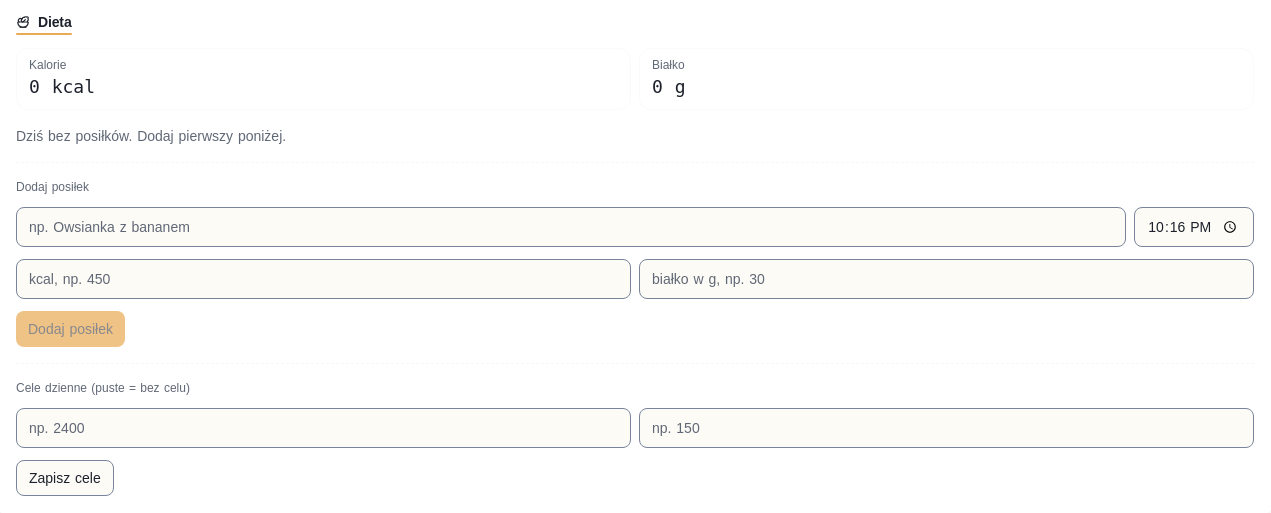
Test case: DietSection › nie-liczba w polu kalorii blokuje zapis
Type "Coś" into the field named "Co zjedzono" at (571, 227), box [16,207,1126,247]
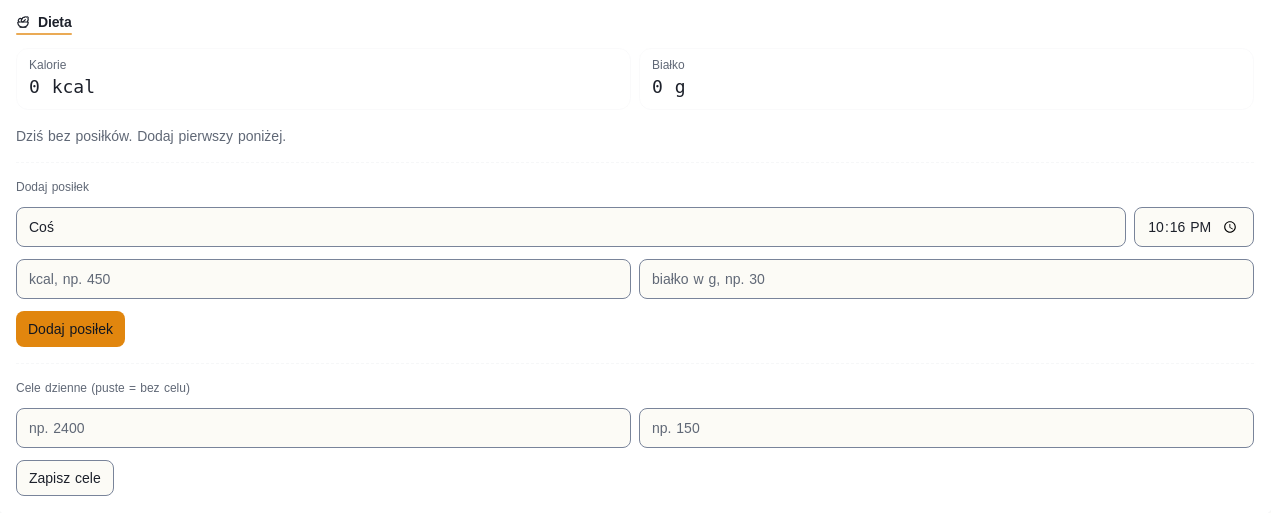
Type "dużo" into the field named "Kalorie (kcal)" at (324, 279), box [16,259,631,299]
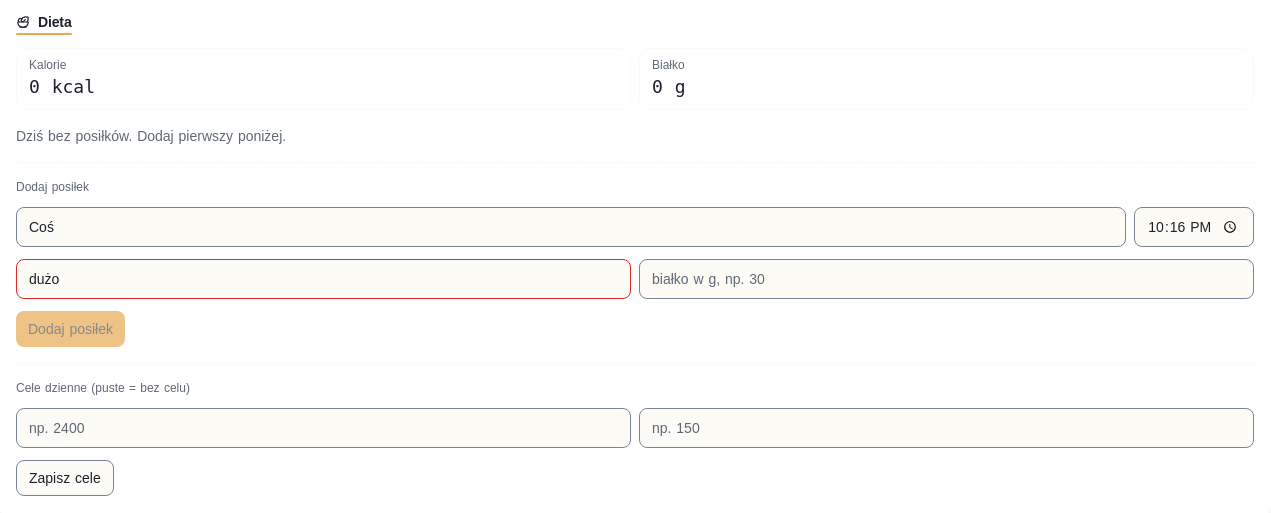
Check: the button "Dodaj posiłek" is disabled, box [16,311,125,347]
